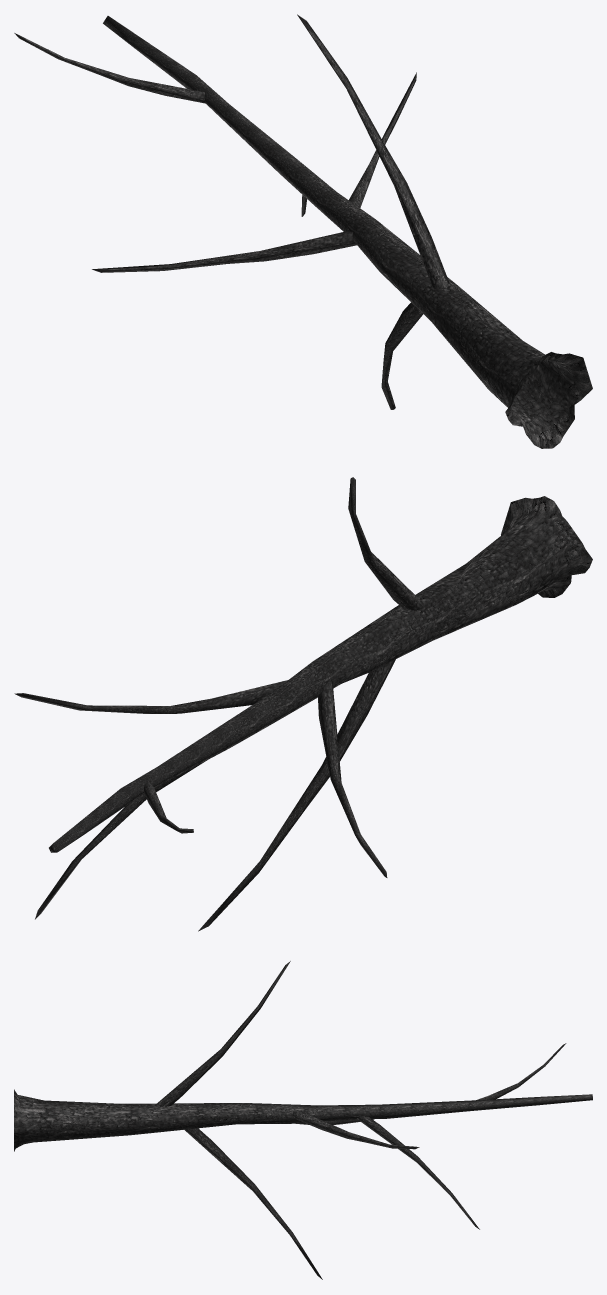
The model's file is tree_8.glb.
3 views of the same model, one above another, from view 1: azimuth 30°, elevation 25°; view 2: azimuth 150°, elevation 25°; view 3: azimuth 270°, elevation 25° (orthographic). The views are drawn at different scales.
Parts seen in each view (by area): view 1: tree_8; view 2: tree_8; view 3: tree_8.
Boxes of the visible parts, x1,y1,x2,y2 form: tree_8: (14, 14, 592, 448); tree_8: (14, 477, 592, 931); tree_8: (14, 961, 592, 1279).
Size of the model in its own units: 3.41 by 4.25 by 7.91.
Materials: 1 (1 with a texture image).
